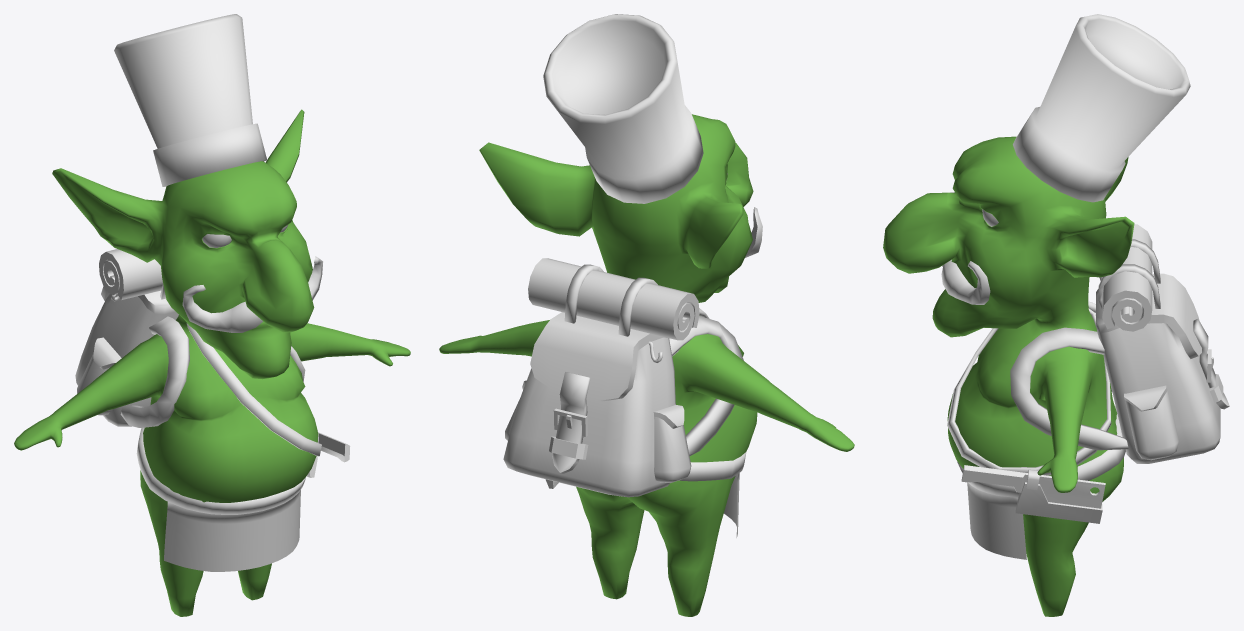
Rendered from goblinChef-noRig-2.fbx.
The picture shows the model from 3 angles, left to right: view 1: azimuth 30°, elevation 25°; view 2: azimuth 150°, elevation 25°; view 3: azimuth 270°, elevation 25°; orthographic projection. The views are drawn at different scales.
Parts seen in each view (by area): view 1: goblin; view 2: goblin; view 3: goblin.
Part boxes in pixels (left/top/right/bottom): goblin: left=14, top=14, right=410, bottom=616; goblin: left=439, top=14, right=854, bottom=616; goblin: left=883, top=14, right=1229, bottom=616.
Bounding box in the file's own units: 113 × 157 × 86.2.
